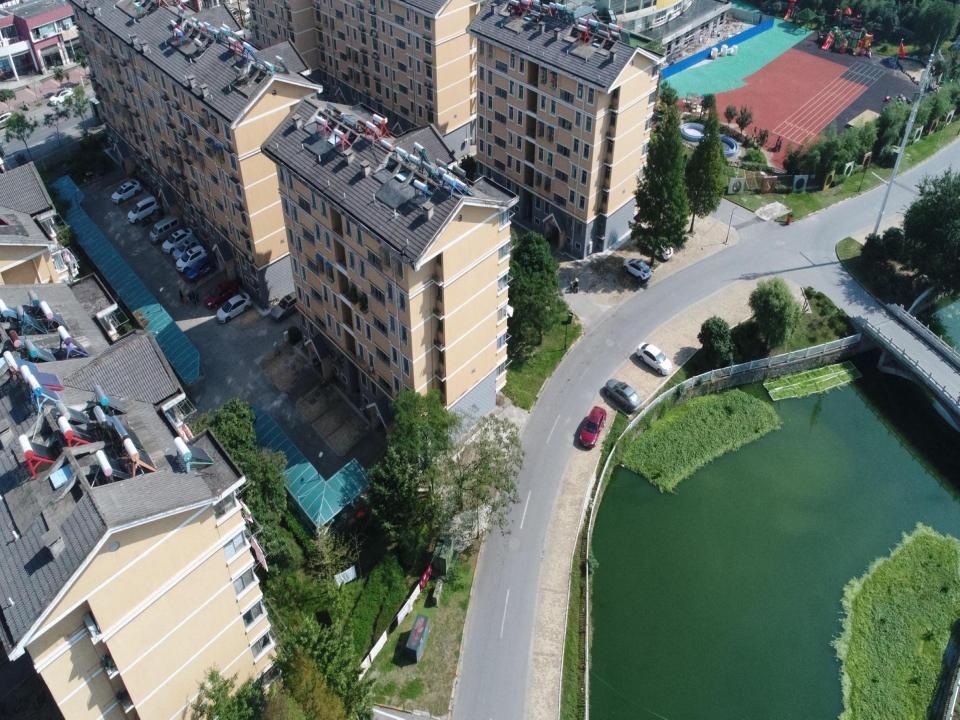car: (605, 379, 641, 412), (636, 342, 672, 375), (202, 279, 239, 310), (580, 406, 606, 449), (216, 292, 252, 323), (270, 291, 303, 321), (127, 195, 160, 224), (176, 245, 208, 273), (162, 226, 194, 254), (186, 255, 216, 283), (641, 236, 674, 260), (172, 234, 201, 260), (112, 179, 142, 204), (622, 258, 652, 282), (49, 86, 76, 106), (0, 111, 16, 129)
van: (149, 214, 181, 244)
